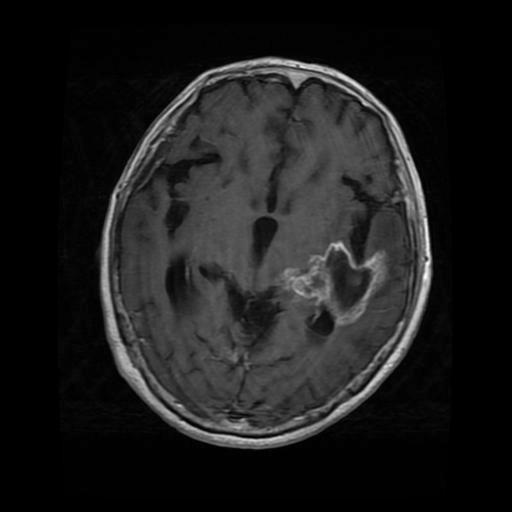Tumour-Glioma: (300, 237, 393, 349)
